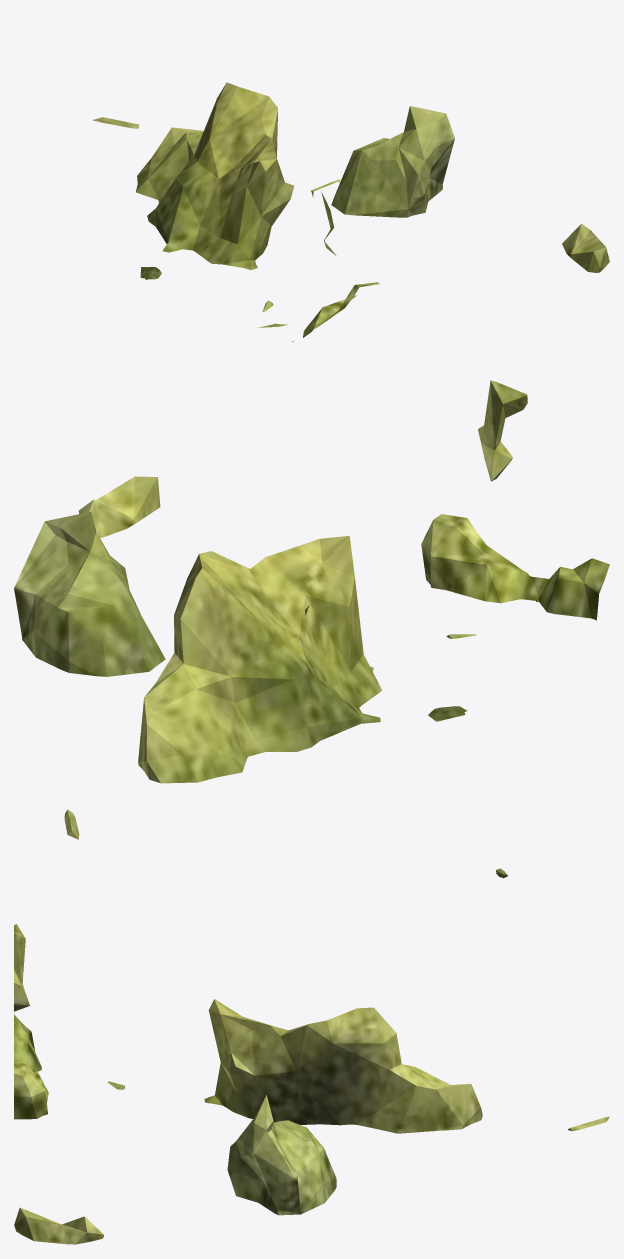
3 renders of one model, top to bottom at view 1: azimuth 30°, elevation 25°; view 2: azimuth 150°, elevation 25°; view 3: azimuth 270°, elevation 25°, orthographic. The views are drawn at different scales.
Bounding box in the file's own units: 3.1 × 1.38 × 4.05.
Materials: 1 (1 with a texture image).
